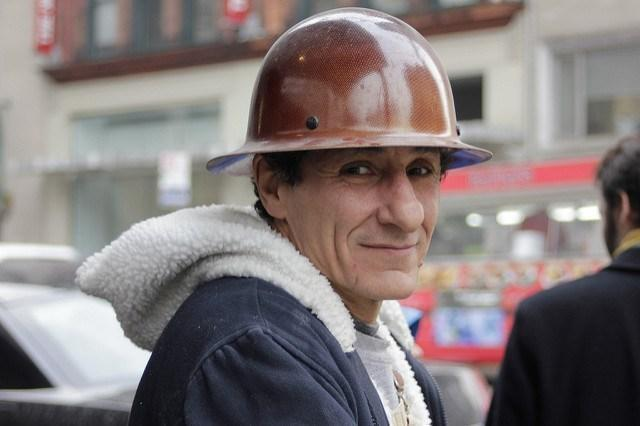helmet: (219, 3, 496, 156)
no-helmet: (585, 126, 640, 217)
no-vest: (139, 235, 447, 426), (492, 246, 640, 426)
